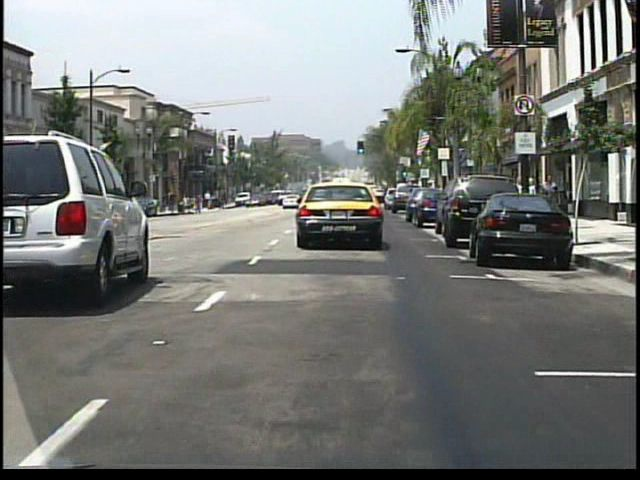person: (538, 170, 559, 225), (522, 178, 539, 217), (214, 194, 222, 211)
